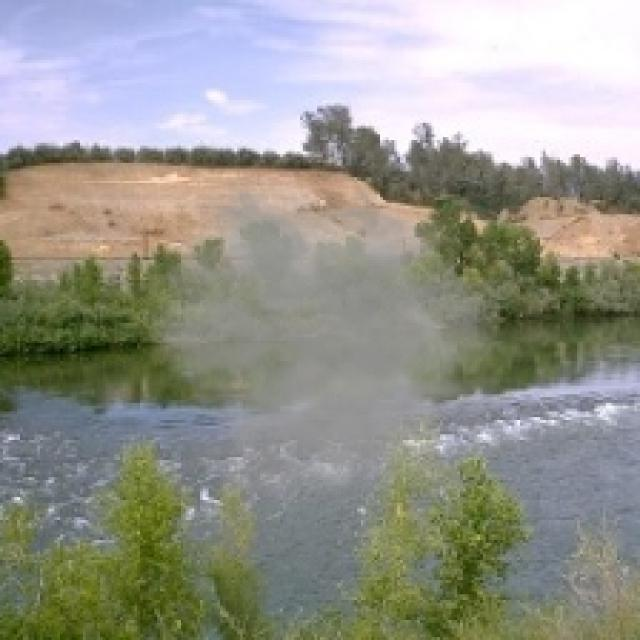smoke: (132, 177, 517, 529)
